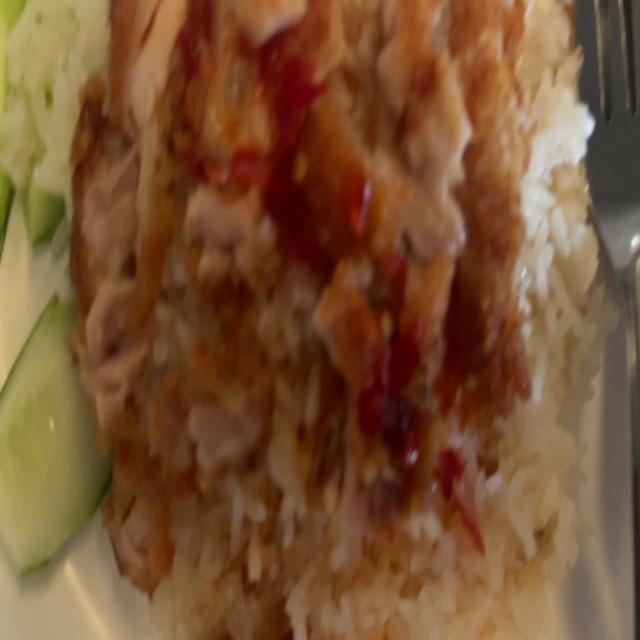chicken_rice: (0, 0, 609, 640)
cucumber: (0, 283, 117, 585), (0, 0, 82, 259)
fried_chicken: (75, 0, 524, 505)
